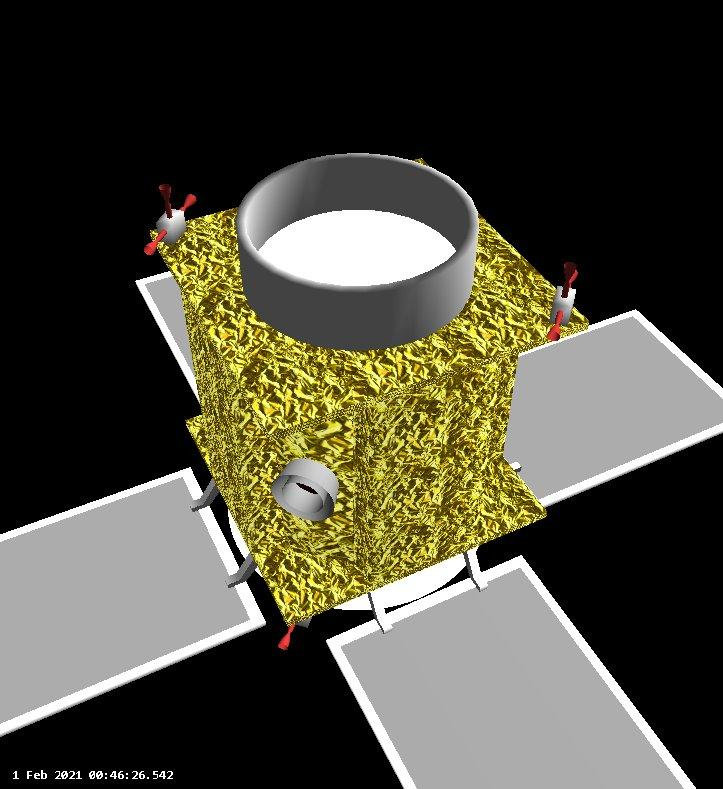body: (147, 154, 587, 631)
solar: (327, 554, 698, 789), (0, 464, 267, 740), (500, 305, 723, 511), (135, 268, 201, 409)
thruster: (233, 149, 482, 353), (156, 180, 176, 224), (560, 257, 579, 303), (278, 614, 296, 657), (144, 230, 168, 258), (546, 308, 565, 343), (179, 191, 200, 216), (566, 267, 583, 290)
